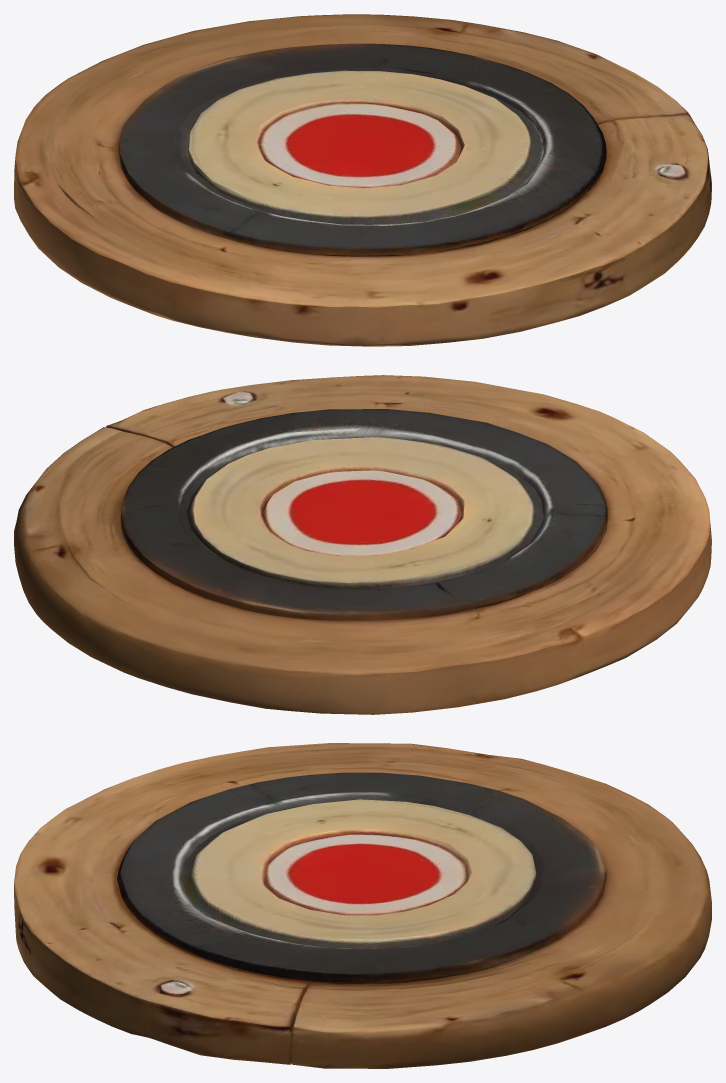
The model's file is m2LandingTargetPad.glb.
3 views of the same model, one above another, from view 1: azimuth 30°, elevation 25°; view 2: azimuth 150°, elevation 25°; view 3: azimuth 270°, elevation 25° (orthographic).
Visible parts, largest first — view 1: model; view 2: model; view 3: model.
Part boxes in pixels (x1,y1,x2,y2): model: [14, 14, 711, 346]; model: [14, 375, 711, 714]; model: [14, 743, 711, 1068].
Bounding box in the file's own units: 1.86 × 0.2158 × 1.89.
Materials: 1 (1 with a texture image).
